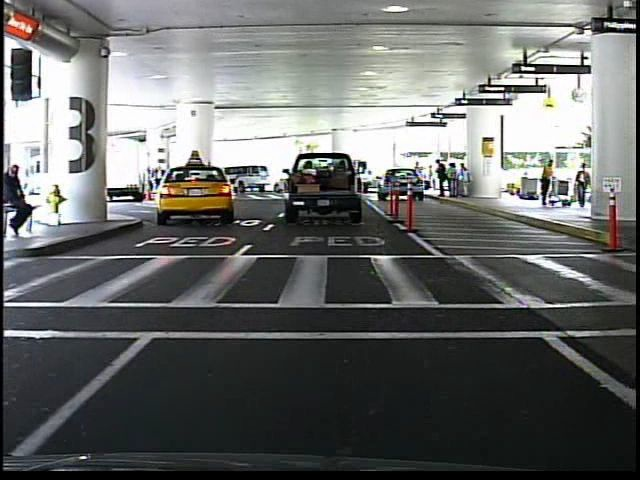person: (2, 161, 39, 238), (535, 154, 558, 209), (574, 160, 592, 212), (413, 161, 426, 193)
